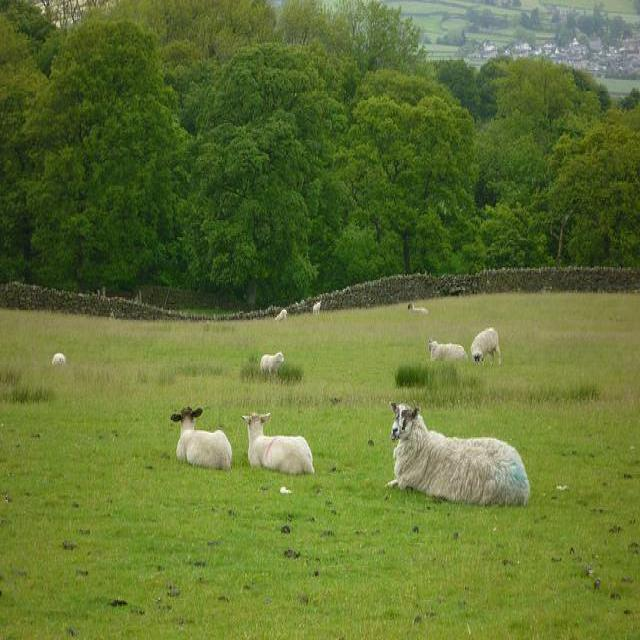Sheep: (389, 396, 532, 506), (238, 410, 317, 479), (170, 407, 234, 474)
